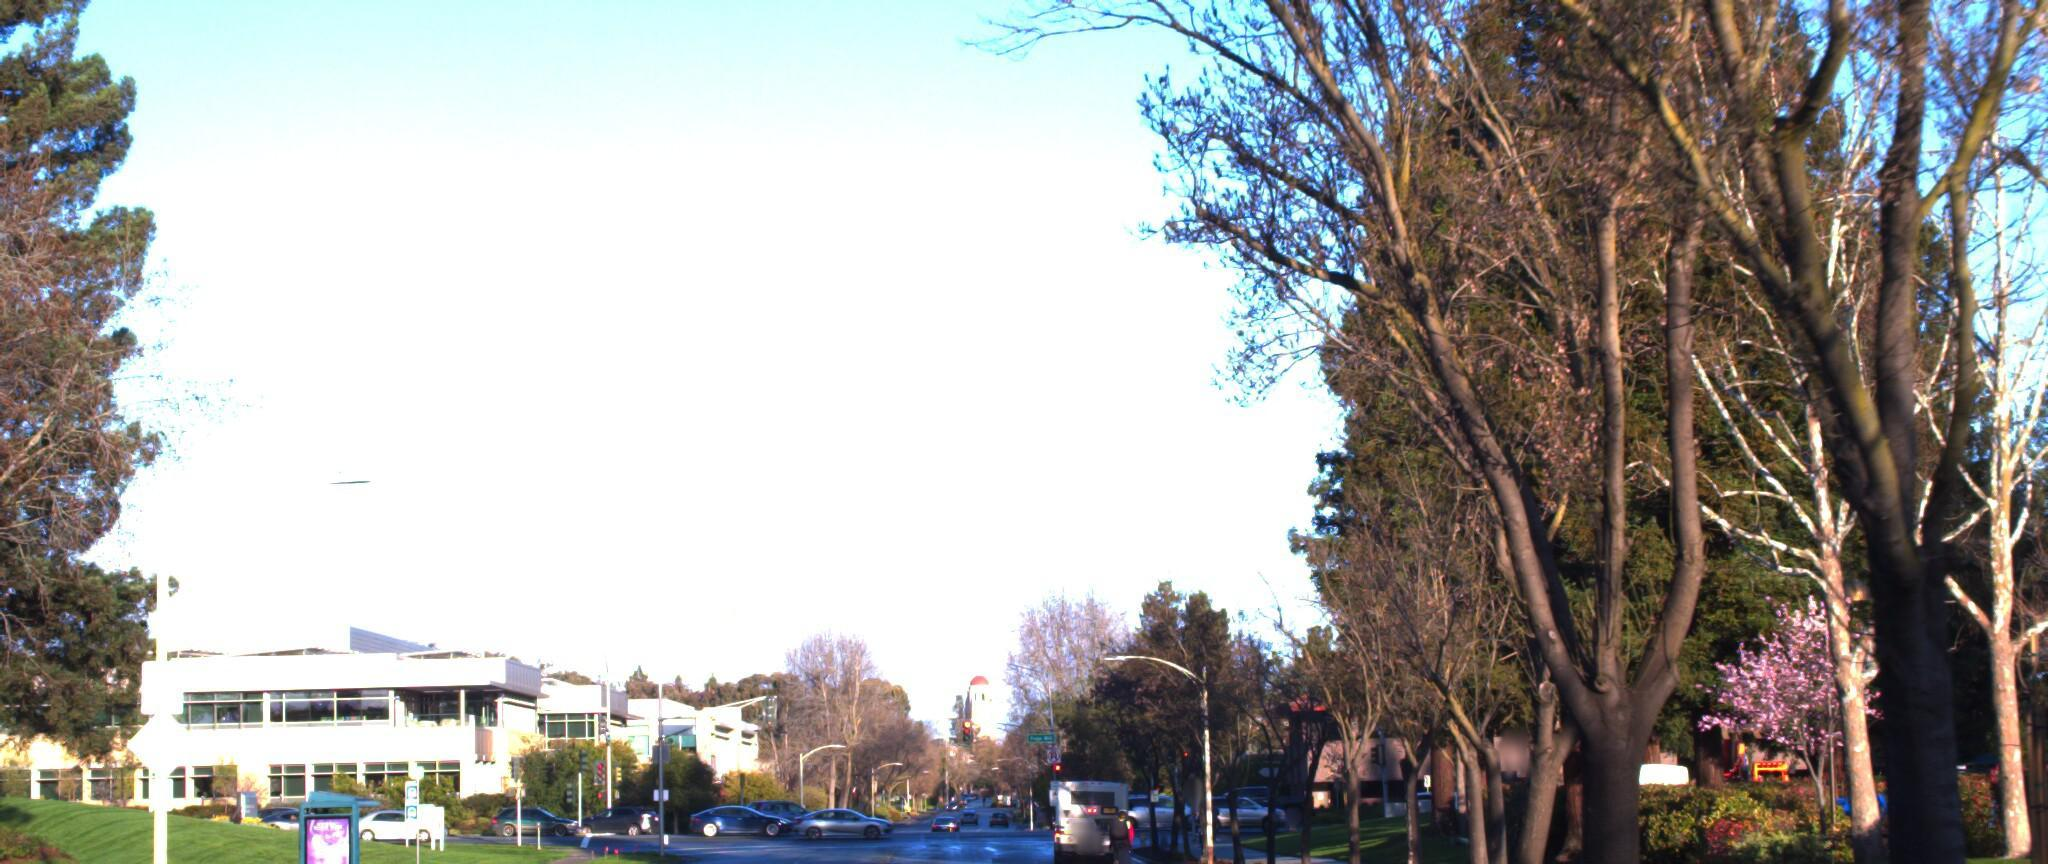bicycle: (1091, 790, 1132, 864)
other_vehicle: (1673, 647, 1801, 852), (1544, 740, 1698, 827)
